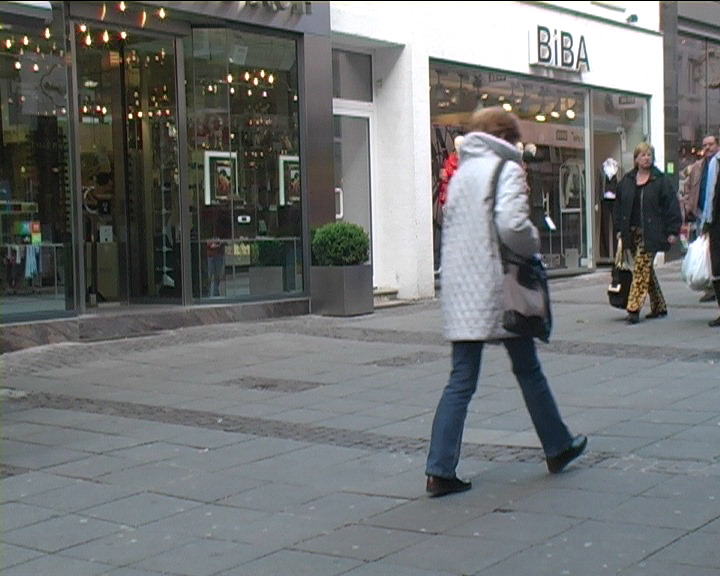deflection: (619, 143, 676, 201)
